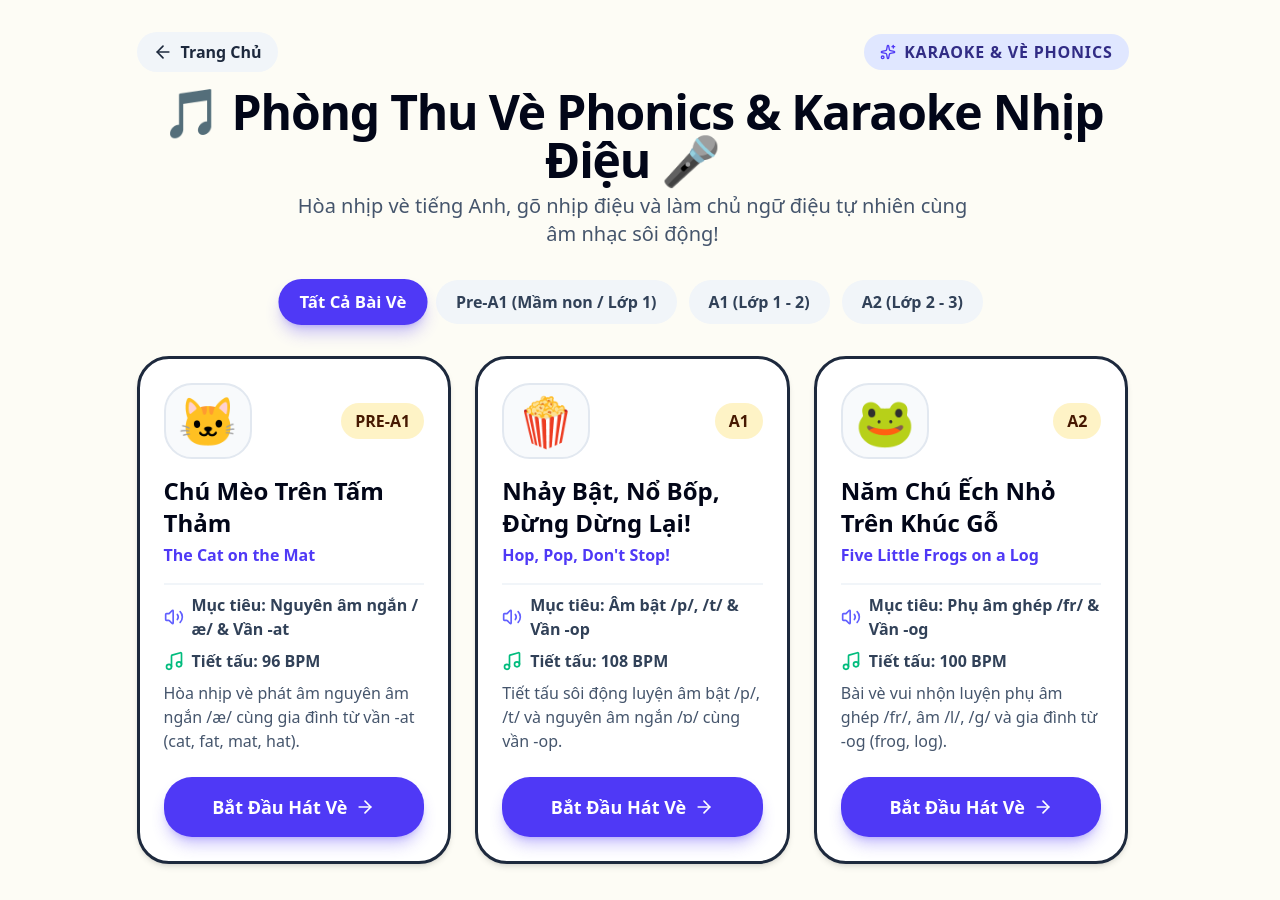
it: ChantCatalog Component › filters chants based on difficulty selection
Click the button "Pre-A1 (Mầm non / Lớp 1)" at (556,302), box [436, 280, 676, 324]
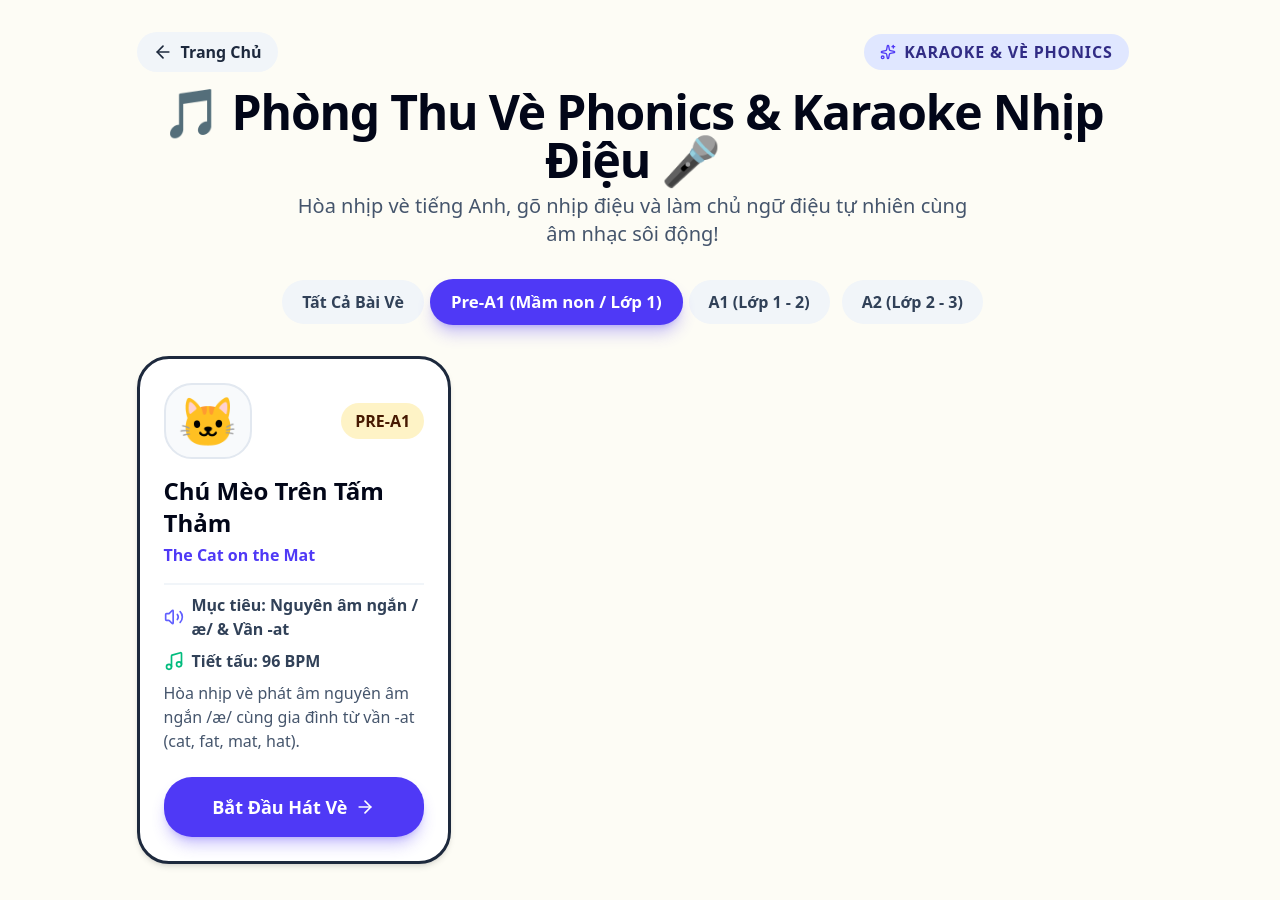
Check: the heading "Chú Mèo Trên Tấm Thảm" is shown, box [164, 474, 384, 539]
Check: the heading "Nhảy Bật, Nổ Bốp, Đừng Dừng Lại!" is gone
Check: the heading "Năm Chú Ếch Nhỏ Trên Khúc Gỗ" is gone
